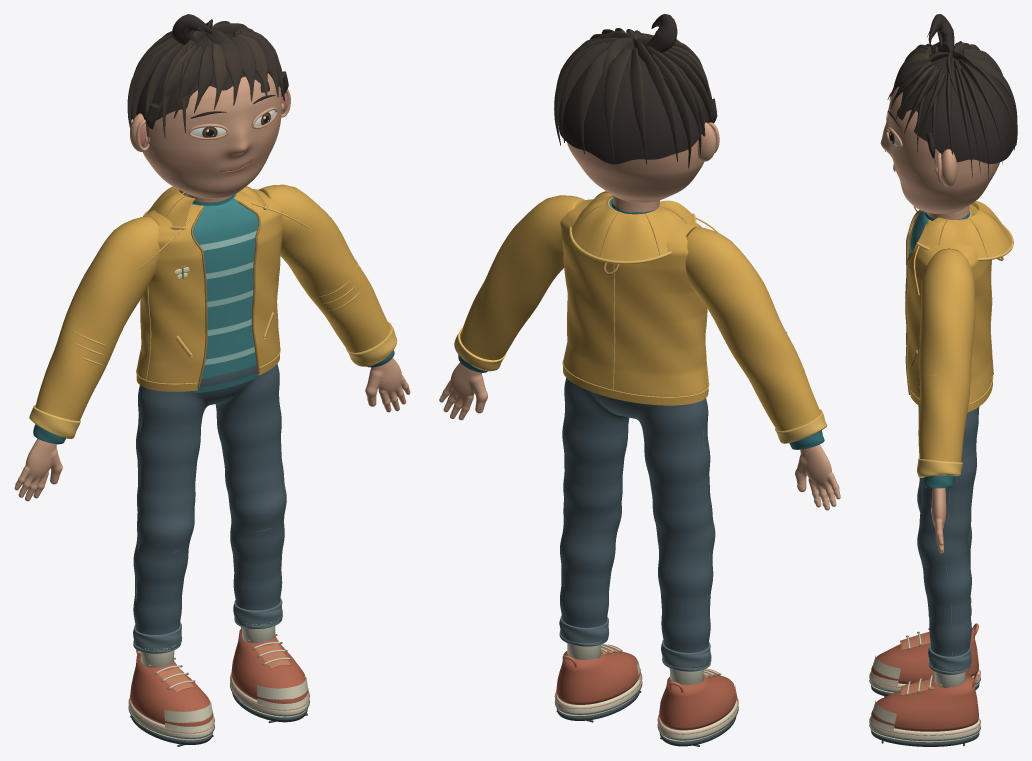
3 views of the same model, side by side, from view 1: azimuth 30°, elevation 25°; view 2: azimuth 150°, elevation 25°; view 3: azimuth 270°, elevation 25° (orthographic). The views are drawn at different scales.
Parts seen in each view (by area): view 1: Trousers | ink slate tones, Rain shell | ochre yellow, Left sleeve | ochre yellow, Head and neck | warm peach tones, Right sleeve | ochre yellow, Sweater | deep lagoon, Hair | warm ridges, Left shoe | brick canvas, Right shoe | brick canvas, Hair | charcoal brown, Left hand | warm peach, Left shoe | warm ivory (+13 smaller); view 2: Trousers | ink slate tones, Rain shell | ochre yellow, Left sleeve | ochre yellow, Hair | warm ridges, Right sleeve | ochre yellow, Hair | charcoal brown, Head and neck | warm peach tones, Right shoe | brick canvas, Left shoe | brick canvas, Left hand | warm peach, Right hand | warm peach, Head and neck | warm peach (+7 smaller); view 3: Right sleeve | ochre yellow, Trousers | ink slate tones, Rain shell | ochre yellow, Hair | charcoal brown, Hair | warm ridges, Head and neck | warm peach tones, Right shoe | brick canvas, Left shoe | brick canvas, Right shoe | warm ivory, Head and neck | warm peach, Right sleeve | golden raised seams, Rain shell | shadow and lining (+12 smaller).
Part boxes in pixels (box(x1,y1,x2,y2)): Trousers | ink slate tones: box(133, 364, 286, 634); Rain shell | ochre yellow: box(136, 186, 282, 391); Left sleeve | ochre yellow: box(35, 216, 159, 420); Head and neck | warm peach tones: box(142, 73, 281, 198); Right sleeve | ochre yellow: box(258, 184, 390, 352); Sweater | deep lagoon: box(183, 193, 258, 392); Hair | warm ridges: box(127, 19, 285, 141); Left shoe | brick canvas: box(130, 652, 213, 726); Right shoe | brick canvas: box(231, 628, 308, 703); Hair | charcoal brown: box(131, 14, 288, 129); Left hand | warm peach: box(14, 438, 62, 501); Left shoe | warm ivory: box(129, 698, 214, 740); Trousers | ink slate tones: box(560, 378, 715, 652); Rain shell | ochre yellow: box(560, 191, 708, 405); Left sleeve | ochre yellow: box(685, 227, 820, 431); Hair | warm ridges: box(554, 29, 712, 168); Right sleeve | ochre yellow: box(460, 195, 585, 360); Hair | charcoal brown: box(558, 14, 717, 164); Head and neck | warm peach tones: box(567, 140, 703, 202); Right shoe | brick canvas: box(556, 651, 640, 704); Left shoe | brick canvas: box(659, 674, 737, 730); Left hand | warm peach: box(795, 444, 840, 510); Right hand | warm peach: box(439, 362, 487, 420); Head and neck | warm peach: box(613, 122, 719, 212); Right sleeve | ochre yellow: box(918, 248, 975, 462); Trousers | ink slate tones: box(917, 406, 979, 656); Rain shell | ochre yellow: box(907, 201, 1011, 412); Hair | charcoal brown: box(896, 14, 1017, 163); Hair | warm ridges: box(889, 30, 1017, 179); Head and neck | warm peach tones: box(880, 86, 999, 213); Right shoe | brick canvas: box(871, 675, 978, 731); Left shoe | brick canvas: box(871, 628, 978, 684); Right shoe | warm ivory: box(869, 700, 980, 742); Head and neck | warm peach: box(927, 149, 969, 219); Right sleeve | golden raised seams: box(913, 246, 962, 477); Rain shell | shadow and lining: box(905, 209, 1011, 394).
Bounding box in the file's own units: 0.7966 × 1.35 × 0.265.
